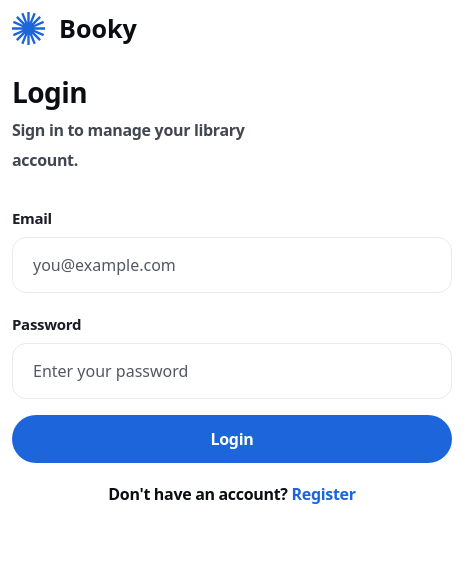
auth forms › shows unauthorized login feedback returned by the BFF adapter
The image size is (471, 575).
Type "reader@booky.test" into the field labelled "Email" at (232, 265), box [12, 237, 452, 293]
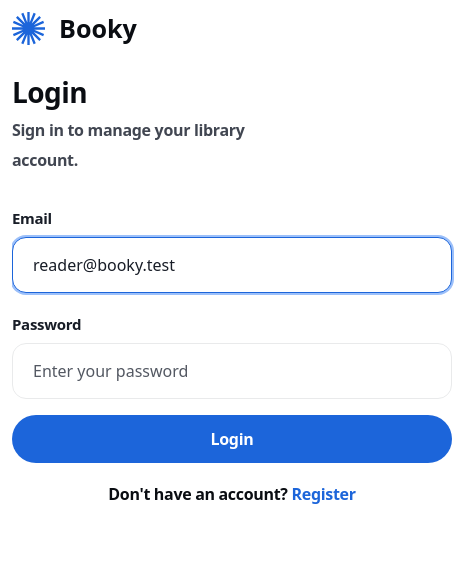
Type "Password123!" into the password field labelled "Password" at (232, 371), box [12, 343, 452, 399]
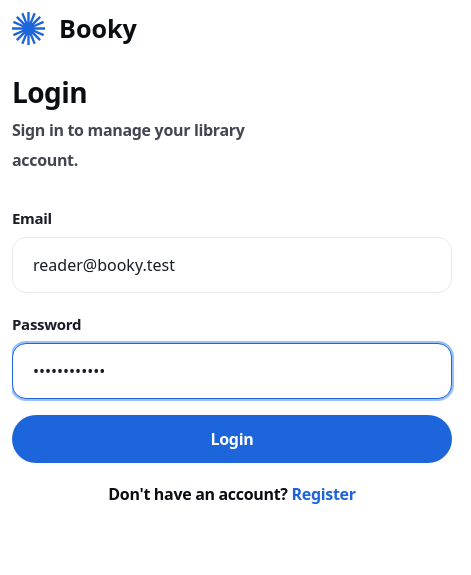
Click the button "Login" at (232, 439), box [12, 415, 452, 463]
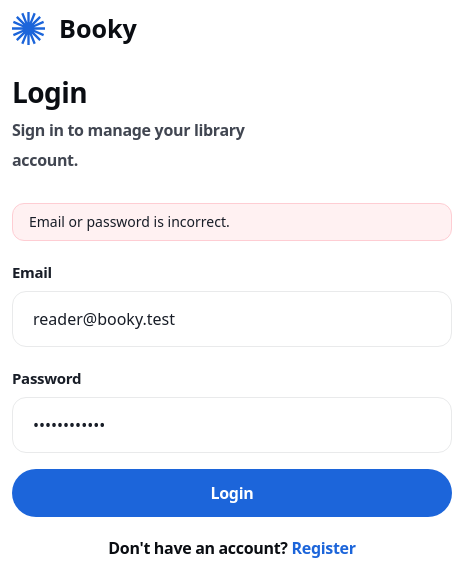
Now the message reads "Email or password is incorrect.", box [29, 212, 230, 231]
